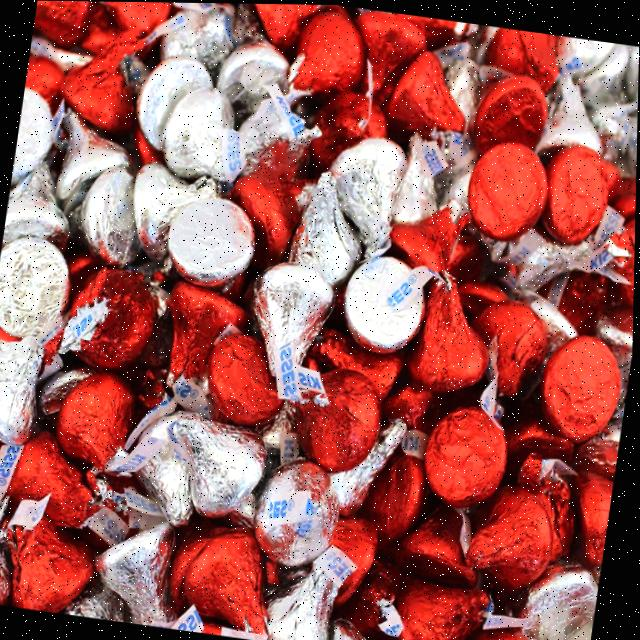kisses: (237, 253, 347, 402), (316, 131, 416, 277), (149, 79, 261, 194), (157, 416, 274, 525), (336, 247, 441, 366), (91, 507, 188, 628), (160, 184, 263, 296), (37, 99, 135, 212), (0, 224, 85, 350), (252, 538, 353, 640), (0, 314, 60, 447), (517, 551, 603, 640), (0, 491, 22, 605)
